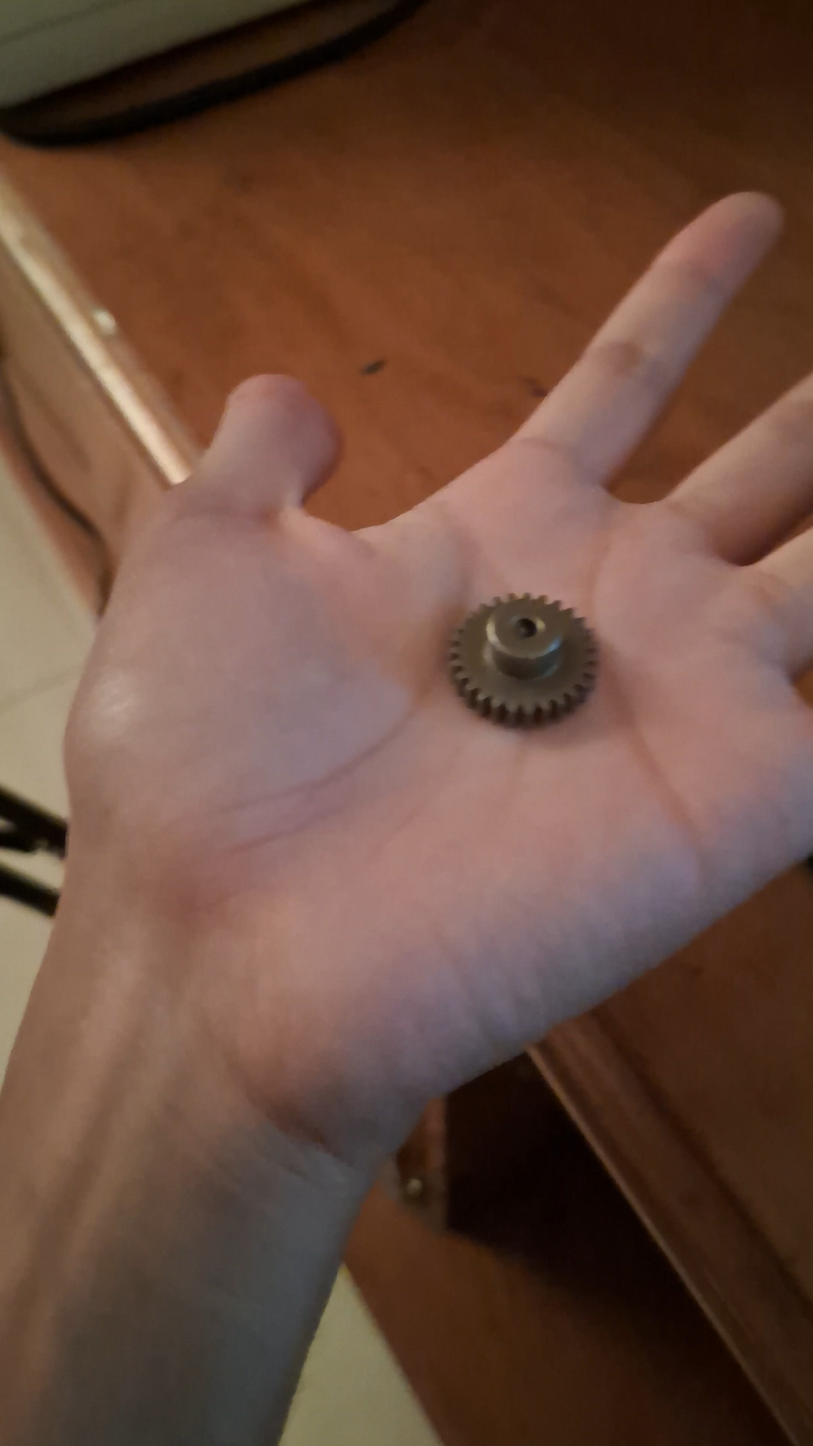spur gear: (449, 595, 597, 725)
